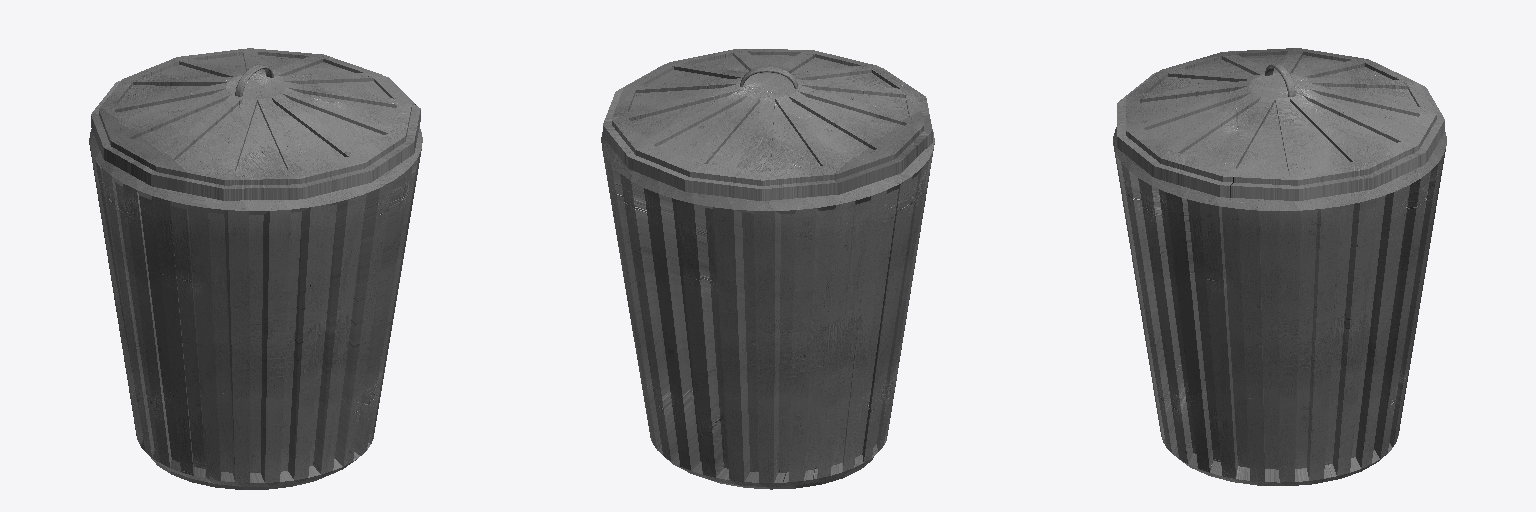
3 views of the same model, side by side, from view 1: azimuth 30°, elevation 25°; view 2: azimuth 150°, elevation 25°; view 3: azimuth 270°, elevation 25° (orthographic).
Parts seen in each view (by area): view 1: Cone.014_Cone.015; view 2: Cone.014_Cone.015; view 3: Cone.014_Cone.015.
Boxes of the visible parts, x1=… form: Cone.014_Cone.015: x1=89, y1=48, x2=422, y2=489; Cone.014_Cone.015: x1=601, y1=49, x2=934, y2=489; Cone.014_Cone.015: x1=1113, y1=48, x2=1446, y2=485.
Size of the model in its own units: 0.6147 by 0.7649 by 0.6135.
1 materials, 1 textured.